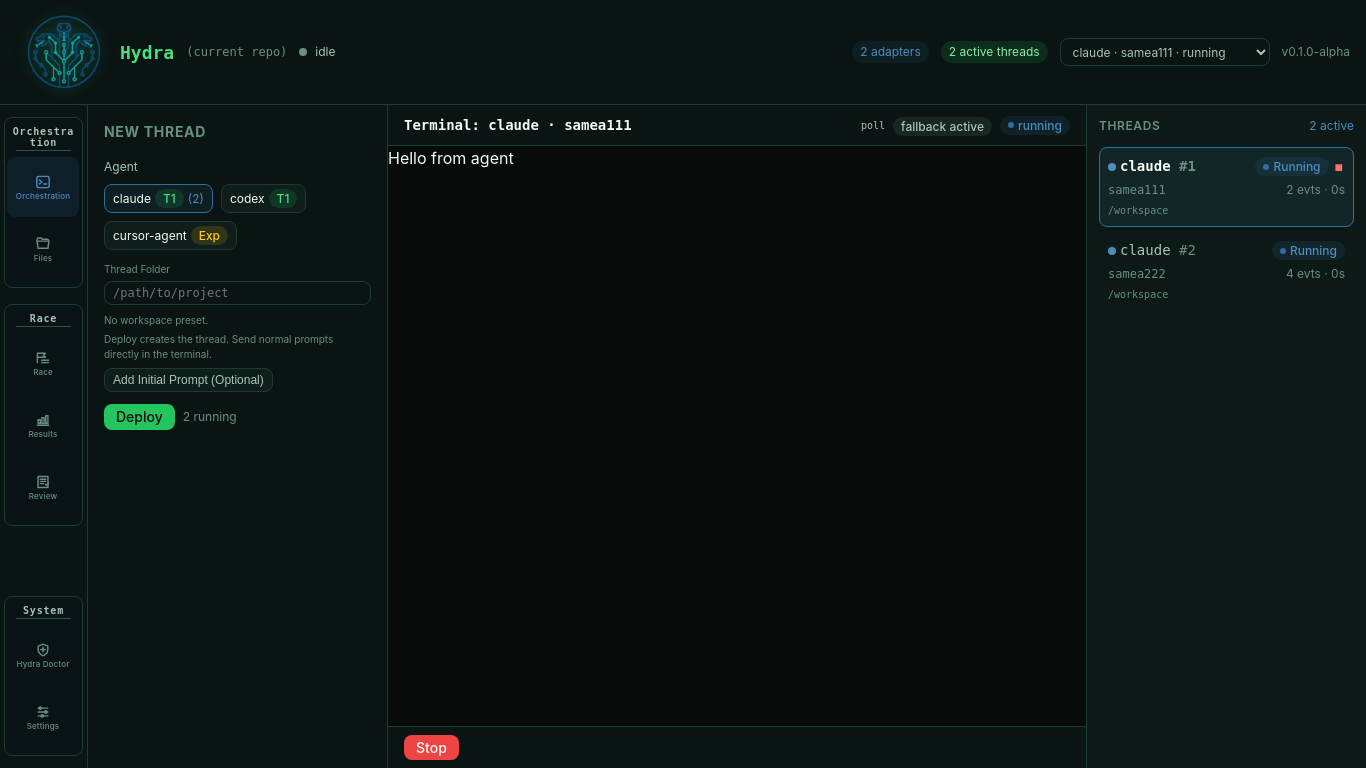
Test: Smoke Test 9b: Side thread selection is not overridden after top-strip jump › keeps side-selected thread focused when multiple same-agent threads exist
The width and height of the screenshot is (1366, 768).
Expected: the element with test id "session-item-samea111-session-id" is shown, [1099,147,1354,227]
Expected: the element with test id "session-item-samea222-session-id" is shown, [1099,231,1354,311]
Select "claude · samea222 · running" in the dropdown with test id "strip-thread-selector". click: (1165,52)
box: [1060,38,1270,66]
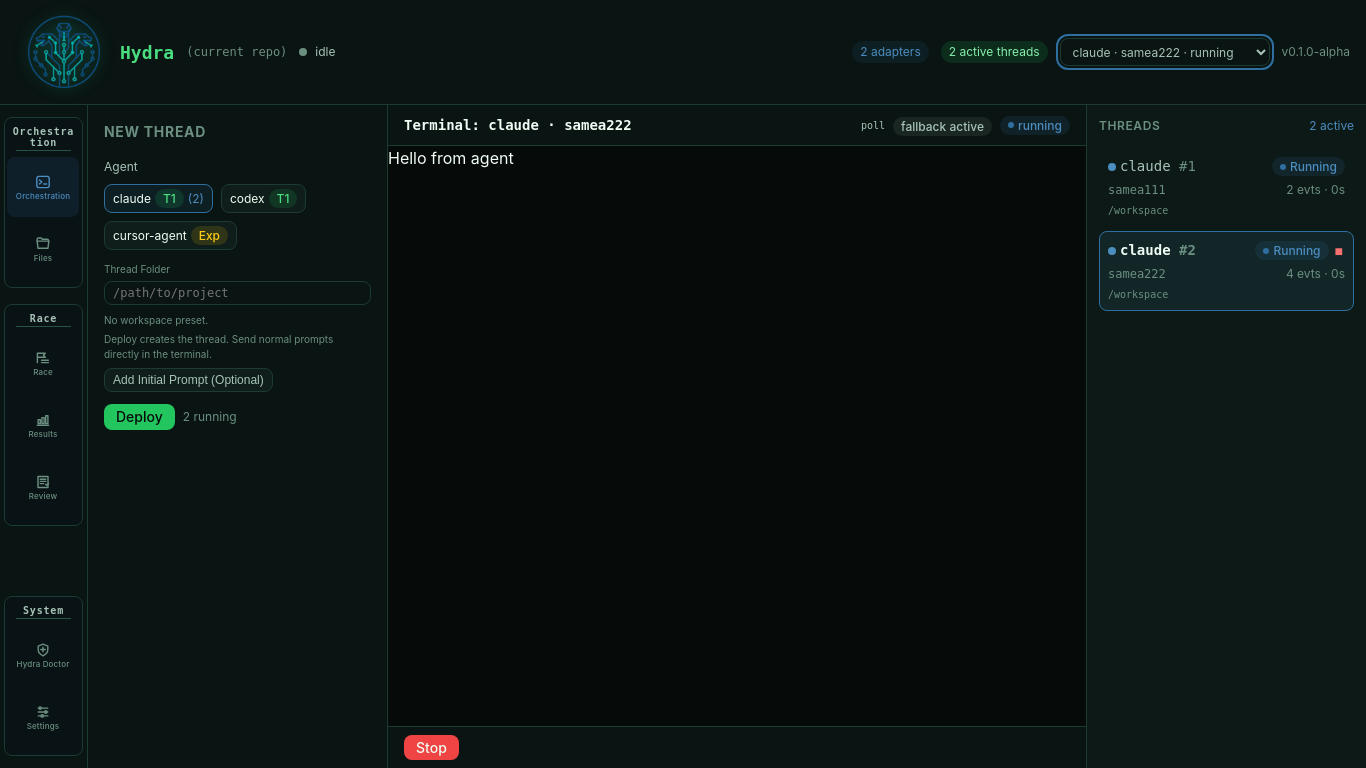
Now the text with test id "terminal-lane-label" shows "claude · samea222", box [404,116,632,132]
Click the element with test id "session-item-samea111-session-id". click: (1145,166)
box: [1099,147,1354,227]
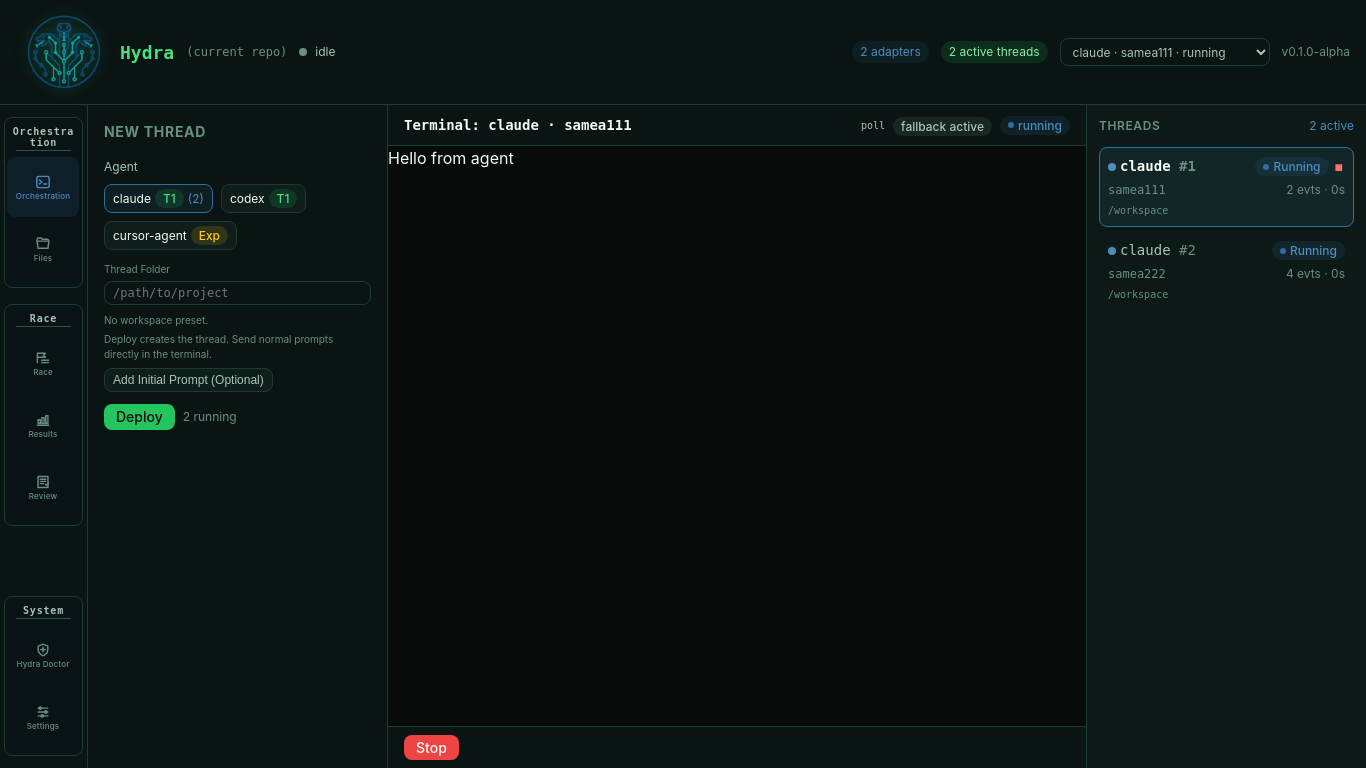
Now the text with test id "terminal-lane-label" shows "claude · samea111", box [404,116,632,132]
